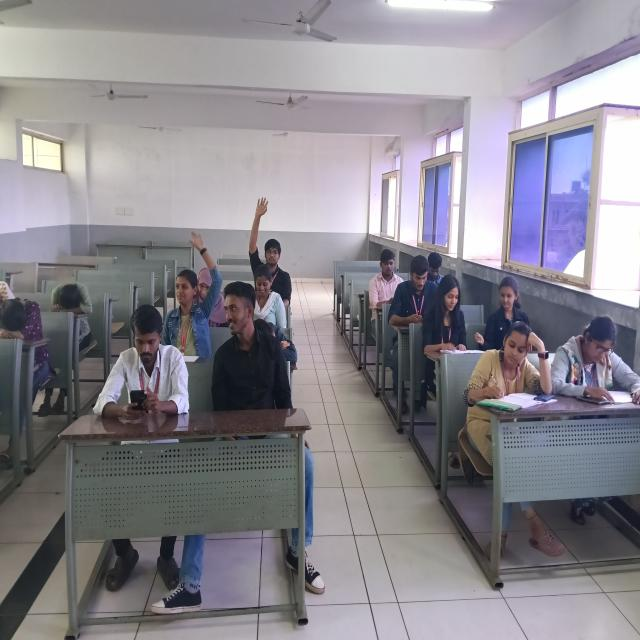Hand Rising: (159, 227, 224, 357), (246, 194, 290, 288)
Reading: (553, 308, 640, 409), (426, 271, 478, 357)
Sleeping: (44, 272, 99, 339)
Using Phone: (96, 305, 201, 423), (388, 252, 448, 333), (249, 266, 290, 334)
Writing: (464, 321, 554, 418)
